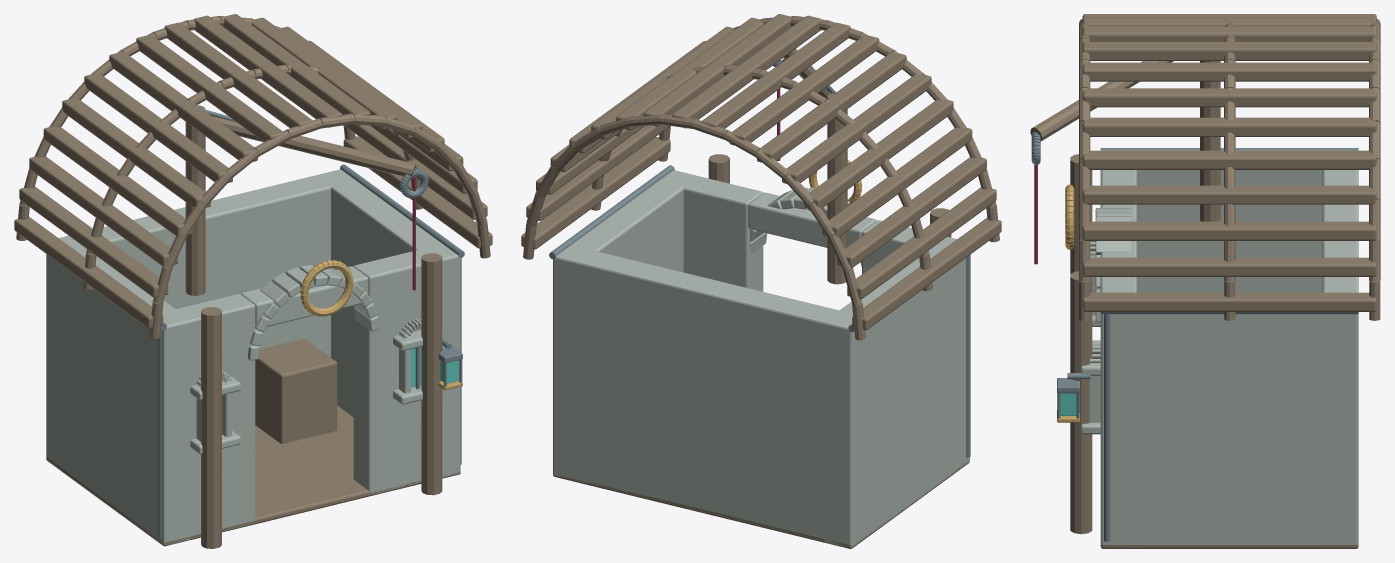
File: a5_service_4.glb
3 renders of one model, left to right at view 1: azimuth 30°, elevation 25°; view 2: azimuth 150°, elevation 25°; view 3: azimuth 270°, elevation 25°, orthographic. The views are drawn at different scales.
Visible parts, largest first — view 1: Roof.022, Front.022, Side.022, Body.049; view 2: Body.049, Roof.022, Side.022, Front.022; view 3: Roof.022, Side.022, Front.022, Body.049.
Boxes of the visible parts, x1,y1,x2,y2 form: Roof.022: (14,14,492,338); Front.022: (153,250,462,548); Side.022: (46,169,461,545); Body.049: (46,169,460,546); Body.049: (553,251,969,548); Roof.022: (521,14,1001,340); Side.022: (554,170,970,547); Front.022: (665,154,968,471); Roof.022: (1030,14,1380,320); Side.022: (1100,170,1356,547); Front.022: (1057,154,1136,548); Body.049: (1101,170,1358,548).
Size of the model in its own units: 3.36 by 3.71 by 2.72.
